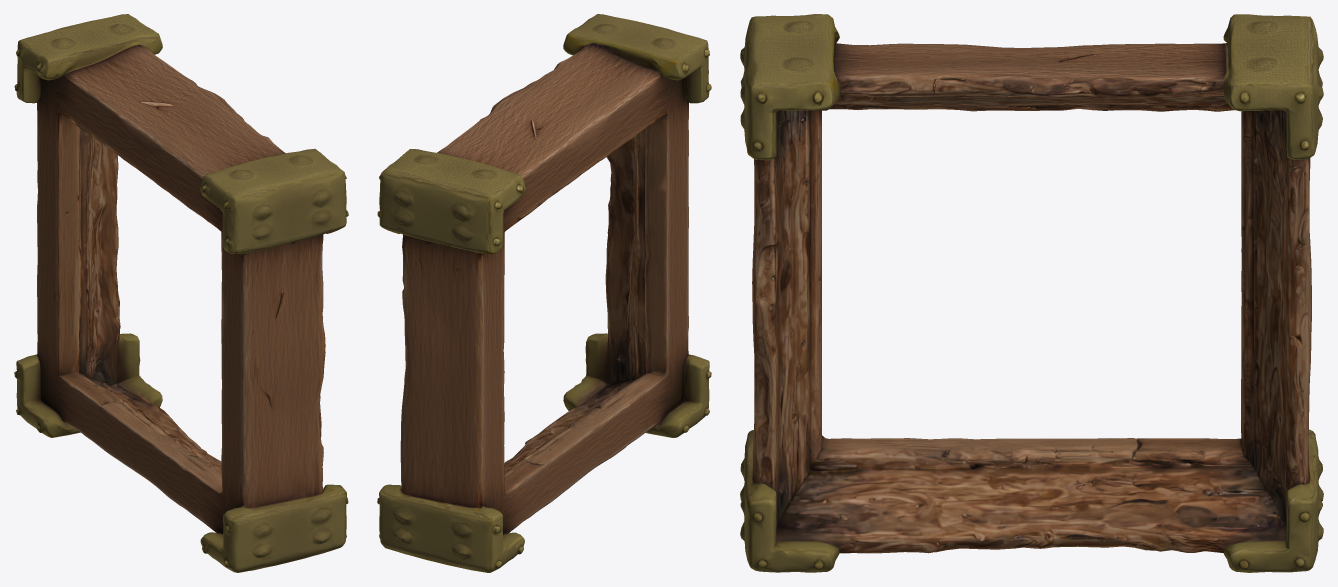
3 views of the same model, side by side, from view 1: azimuth 30°, elevation 25°; view 2: azimuth 150°, elevation 25°; view 3: azimuth 270°, elevation 25° (orthographic). The views are drawn at different scales.
Parts seen in each view (by area): view 1: tripo_node_a0ec0f0f-906c-4a1a-abe7-b6828beb7a8e; view 2: tripo_node_a0ec0f0f-906c-4a1a-abe7-b6828beb7a8e; view 3: tripo_node_a0ec0f0f-906c-4a1a-abe7-b6828beb7a8e.
Boxes of the visible parts, <box> form: tripo_node_a0ec0f0f-906c-4a1a-abe7-b6828beb7a8e: <box>14,14,348,572</box>; tripo_node_a0ec0f0f-906c-4a1a-abe7-b6828beb7a8e: <box>377,14,711,572</box>; tripo_node_a0ec0f0f-906c-4a1a-abe7-b6828beb7a8e: <box>740,14,1323,572</box>.
Size of the model in its own units: 0.315 by 0.9526 by 1.
1 material, 1 textured.
